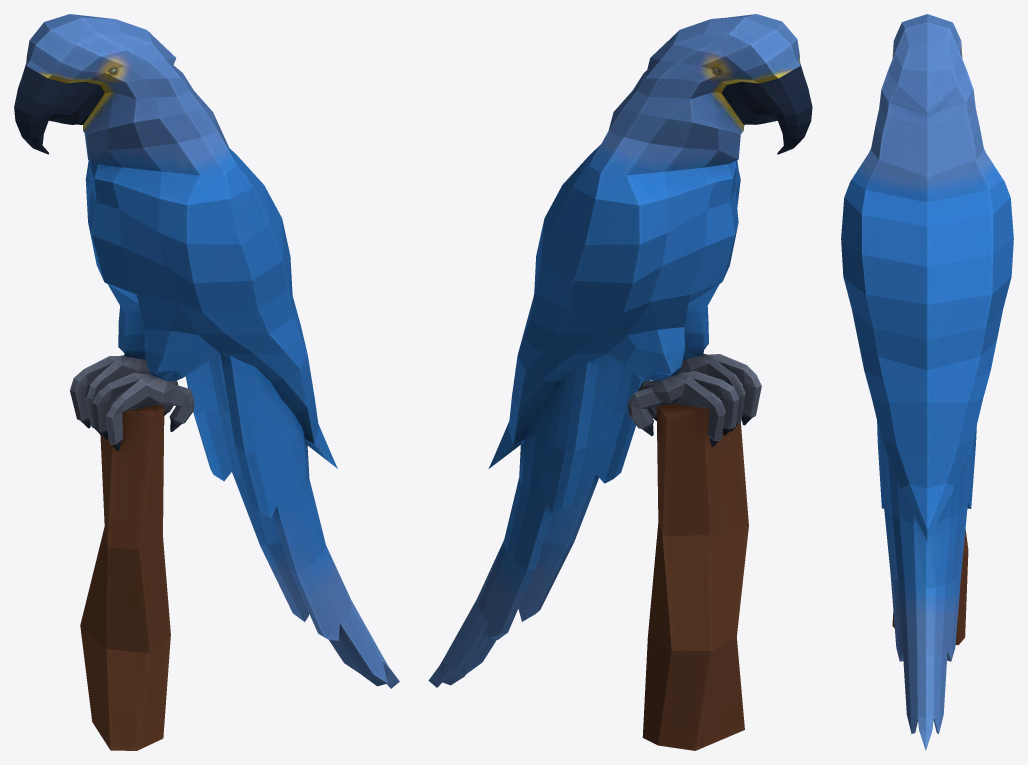
Rendered from frVFwZAW6z3.glb.
3 views of the same model, side by side, from view 1: azimuth 30°, elevation 25°; view 2: azimuth 150°, elevation 25°; view 3: azimuth 270°, elevation 25° (orthographic). The views are drawn at different scales.
Visible parts, largest first — view 1: HyancinthMacaw_mesh; view 2: HyancinthMacaw_mesh; view 3: HyancinthMacaw_mesh.
Part boxes in pixels (x1=…): HyancinthMacaw_mesh: x1=14, y1=14, x2=399, y2=750; HyancinthMacaw_mesh: x1=428, y1=14, x2=812, y2=750; HyancinthMacaw_mesh: x1=841, y1=14, x2=1013, y2=750.
Bounding box in the file's own units: 0.5398 × 1 × 0.2583.
1 material, 1 textured.
